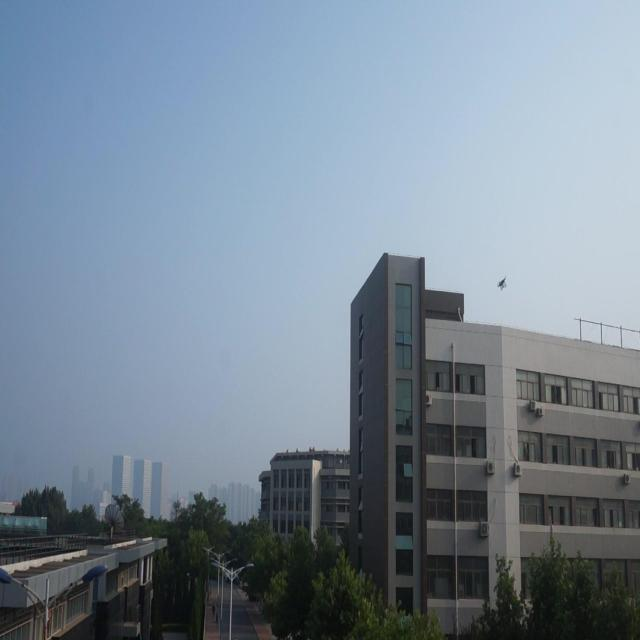drone: (495, 276, 508, 295)
